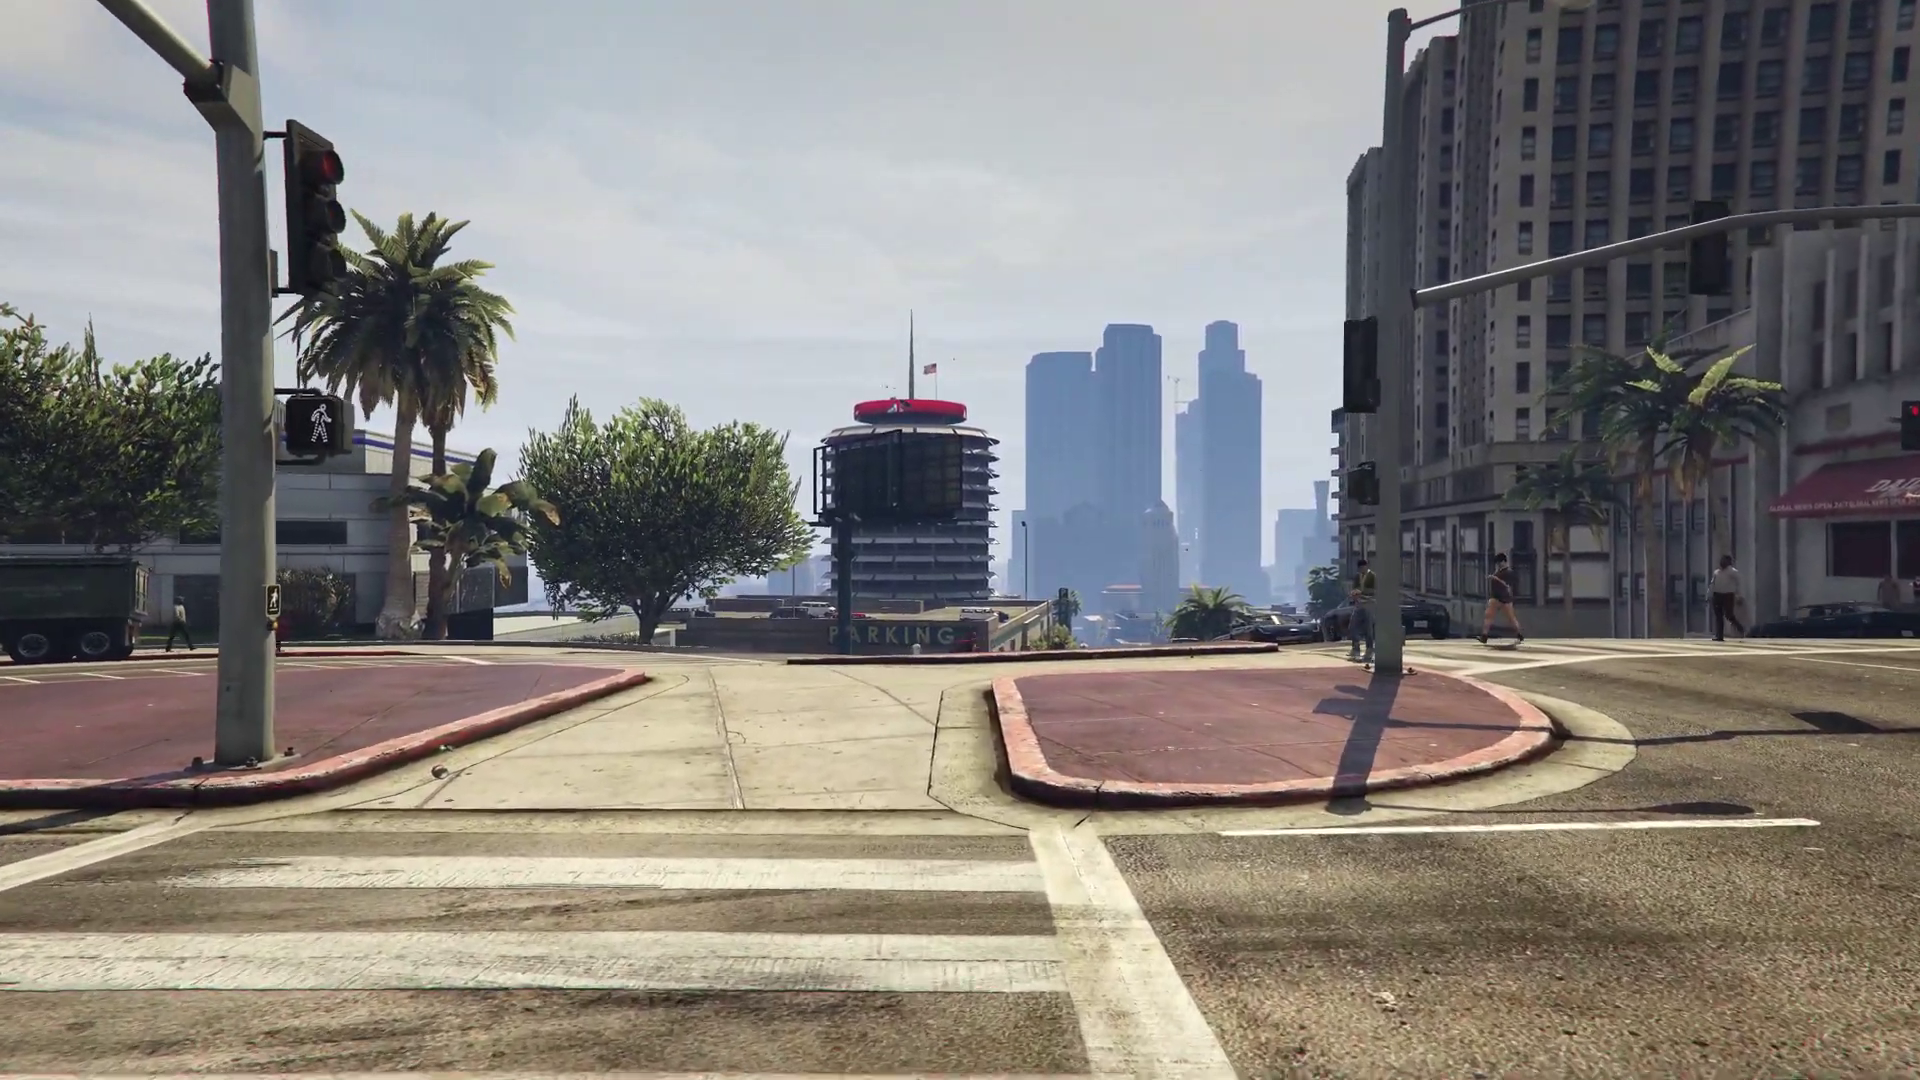car: (1, 555, 144, 657), (1325, 588, 1450, 643), (1750, 601, 1918, 639), (1233, 612, 1319, 645), (960, 607, 1009, 624), (662, 607, 696, 624), (772, 607, 808, 620), (800, 602, 834, 617)
person: (1480, 554, 1524, 644), (1706, 554, 1748, 643), (1348, 559, 1377, 664), (168, 596, 194, 653)
traffic light: (281, 121, 342, 303), (286, 389, 350, 456), (1342, 318, 1378, 409), (1692, 199, 1723, 299), (1350, 457, 1379, 503), (1903, 401, 1920, 453)
